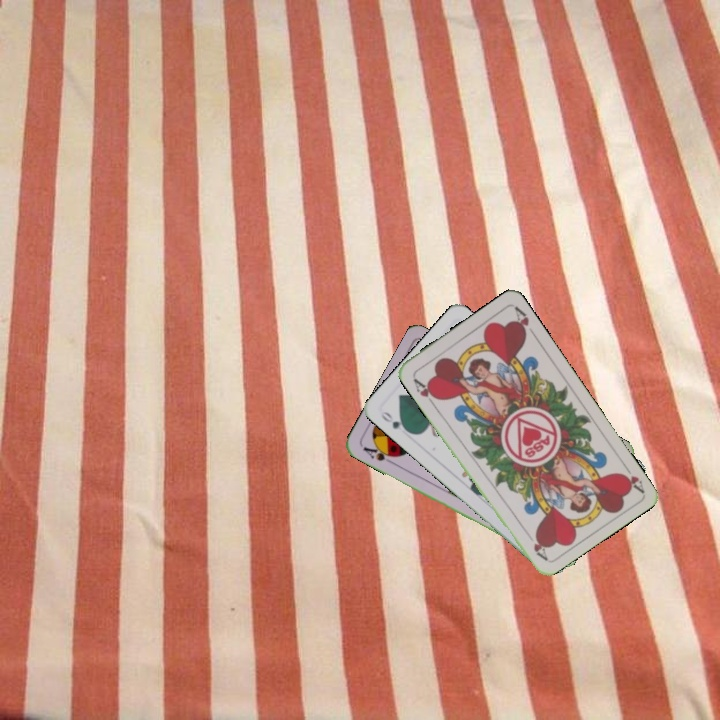GO: (377, 407, 412, 435)
HA: (409, 373, 442, 408), (616, 458, 646, 495)
SA: (359, 442, 399, 467)
